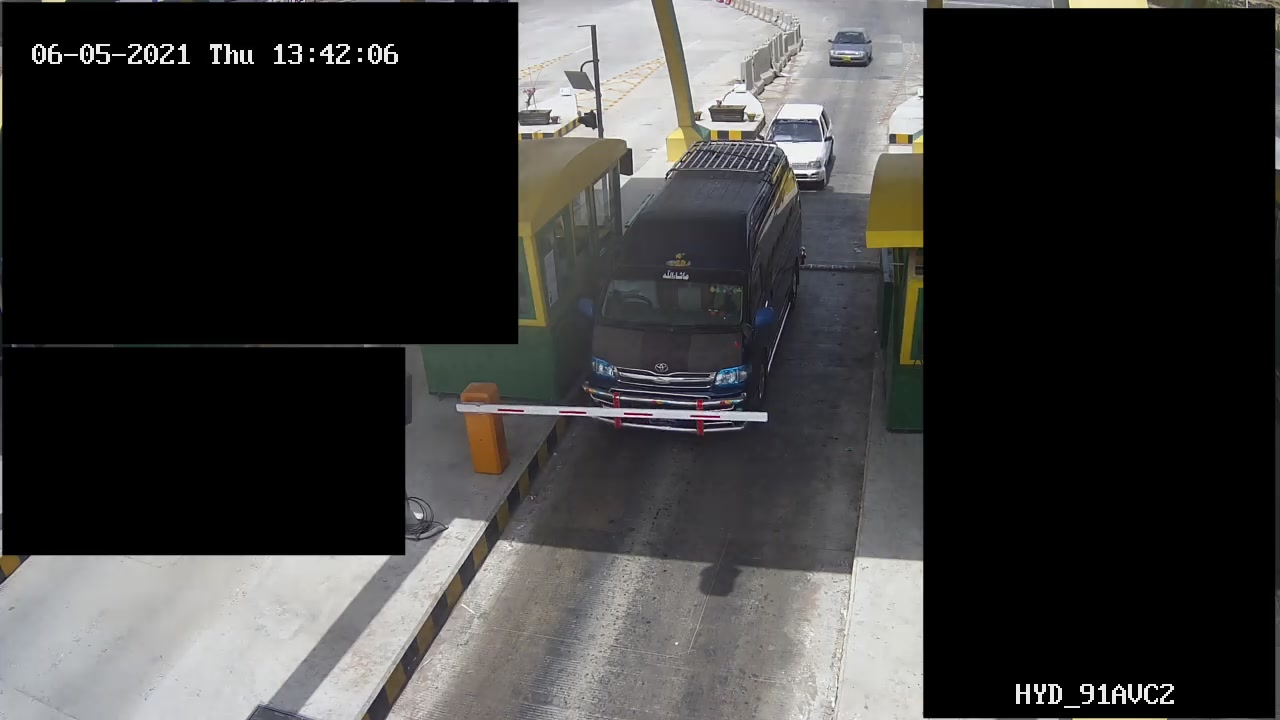F2: (573, 140, 816, 457)
